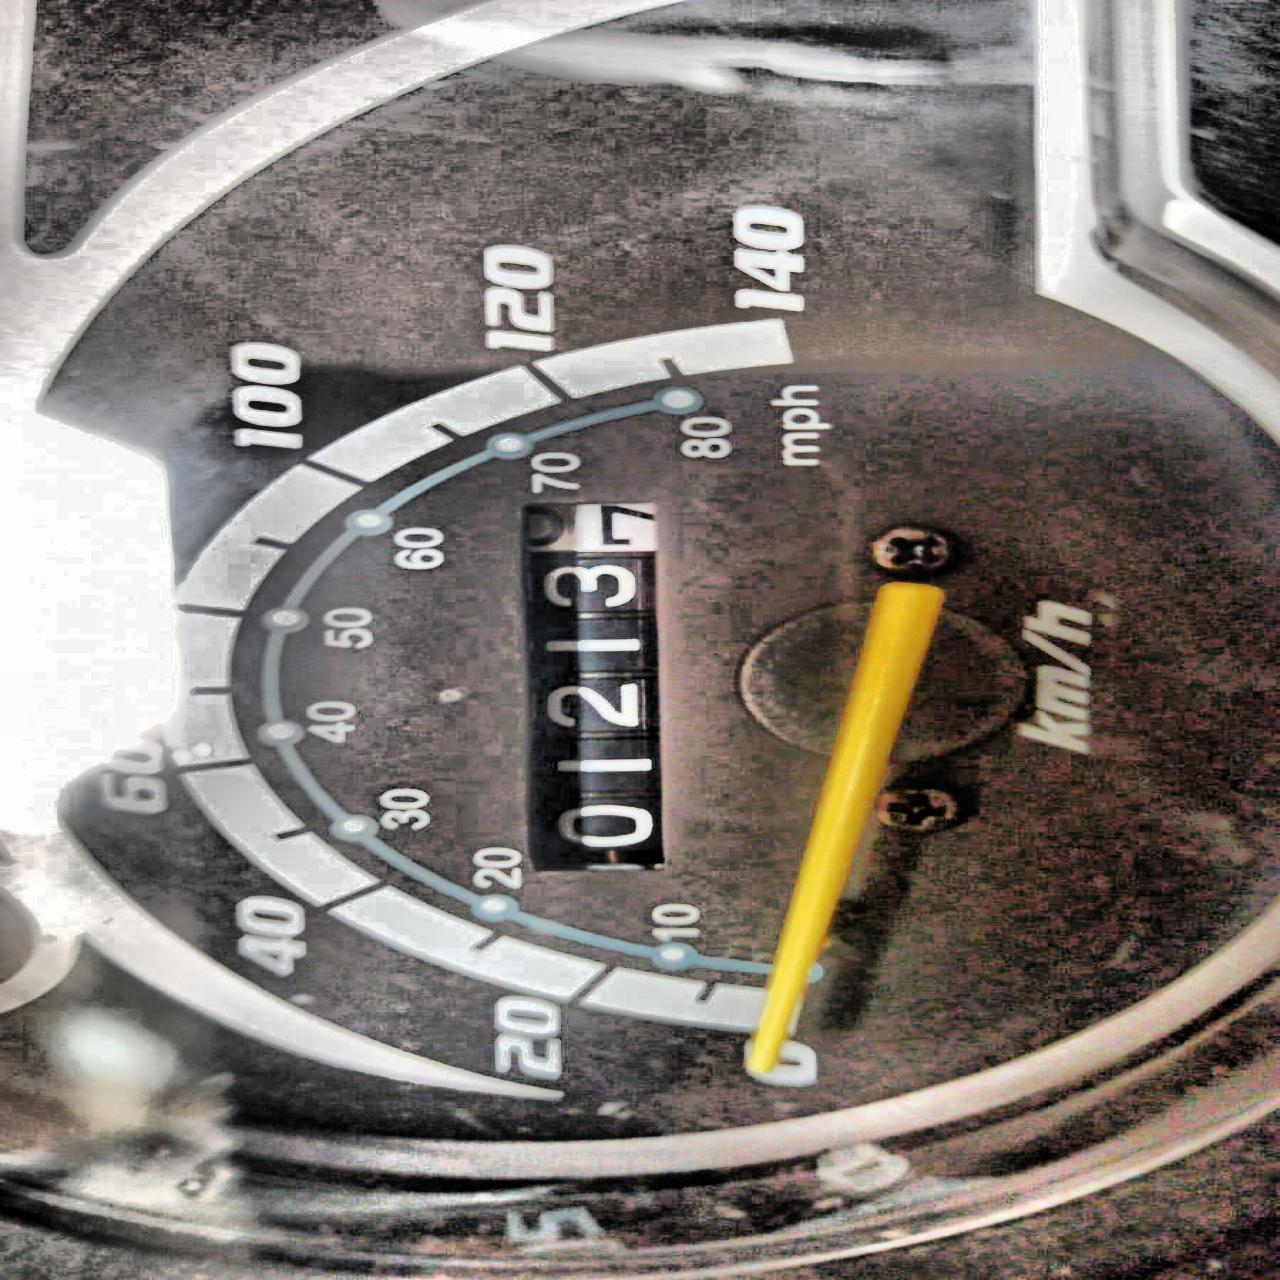0: (545, 801, 672, 850), (468, 847, 517, 866)
1: (537, 749, 681, 778), (526, 629, 656, 661)
2: (539, 682, 649, 728)
3: (529, 561, 654, 608)
7: (577, 501, 685, 550)
odometer: (489, 490, 702, 874)
